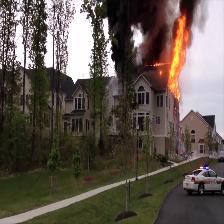fire: (168, 12, 186, 95)
smoke: (110, 2, 165, 66)
